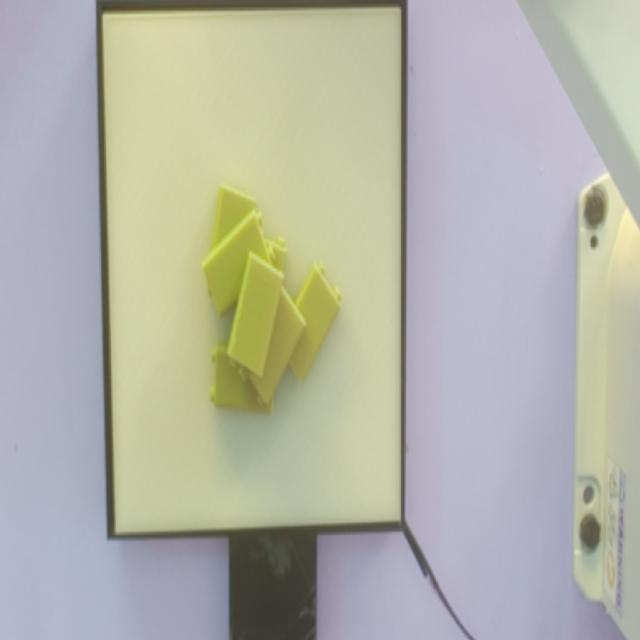bateria: (226, 252, 285, 388)
mesa: (96, 0, 408, 539)
